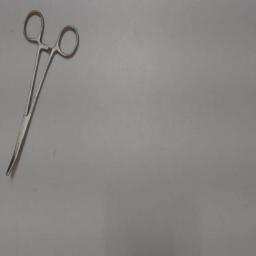Crile Artery Forceps: (2, 6, 82, 182)
